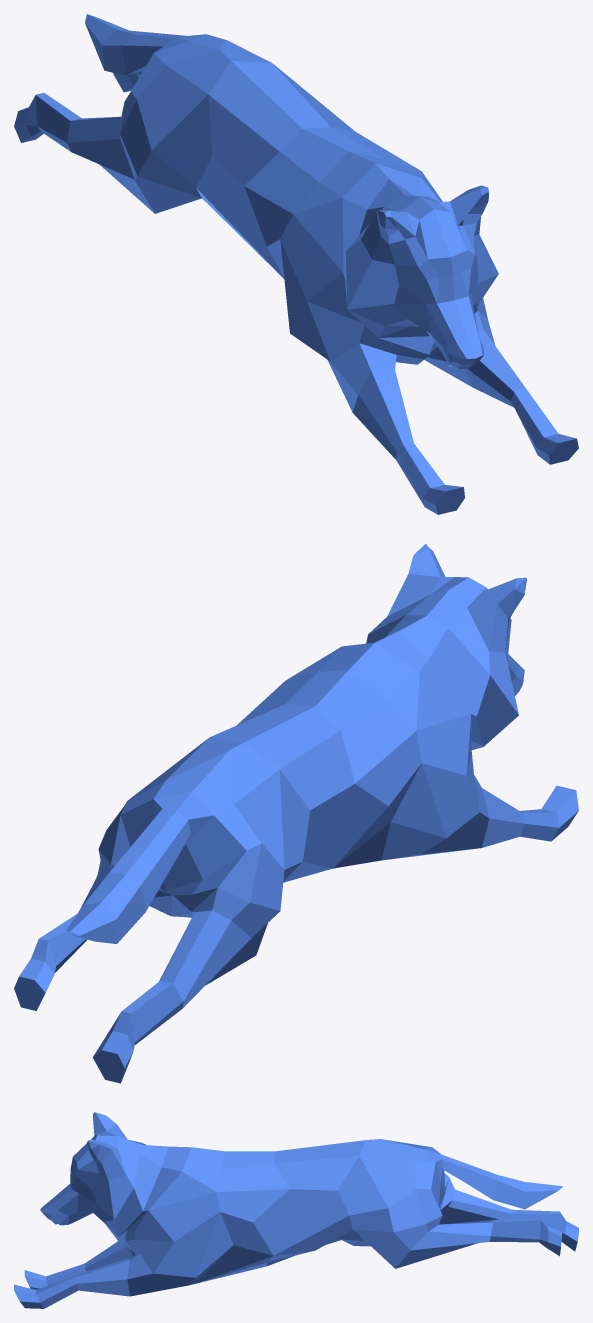
The model's file is wolfRunA_v009005.obj.
The picture shows the model from 3 angles, top to bottom: view 1: azimuth 30°, elevation 25°; view 2: azimuth 150°, elevation 25°; view 3: azimuth 270°, elevation 25°; orthographic projection. The views are drawn at different scales.
Parts seen in each view (by area): view 1: comp_wolf_rig:wolf_body comp_wolf_rig:wolf; view 2: comp_wolf_rig:wolf_body comp_wolf_rig:wolf; view 3: comp_wolf_rig:wolf_body comp_wolf_rig:wolf.
Part boxes in pixels (x1=…): comp_wolf_rig:wolf_body comp_wolf_rig:wolf: x1=14, y1=14, x2=578, y2=514; comp_wolf_rig:wolf_body comp_wolf_rig:wolf: x1=14, y1=543, x2=578, y2=1083; comp_wolf_rig:wolf_body comp_wolf_rig:wolf: x1=14, y1=1112, x2=578, y2=1308.
Size of the model in its own units: 36.65 by 54.07 by 154.
